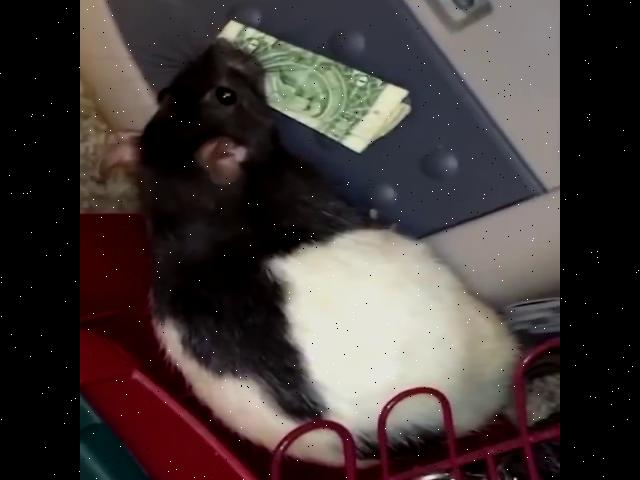Tikus: (111, 38, 493, 462)
